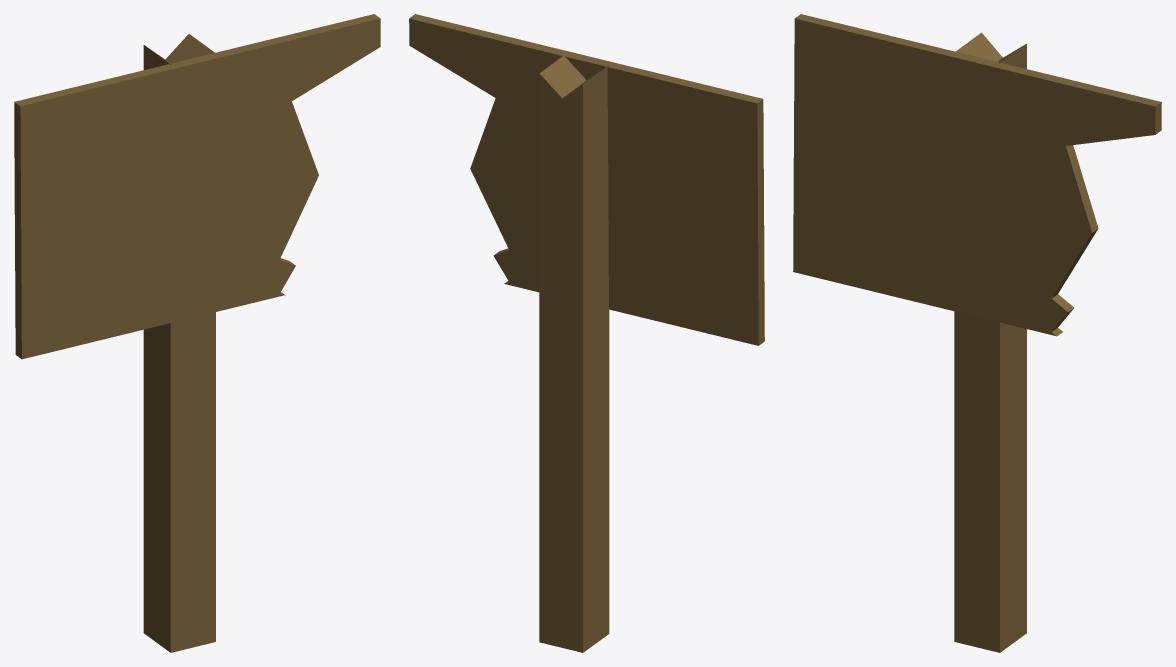
The model's file is WaxWorld_Sign_3.fbx.
3 views of the same model, side by side, from view 1: azimuth 30°, elevation 25°; view 2: azimuth 150°, elevation 25°; view 3: azimuth 330°, elevation 25° (orthographic). The views are drawn at different scales.
Visible parts, largest first — view 1: Box002; view 2: Box002; view 3: Box002.
Part boxes in pixels (<box>): Box002: <box>14,14,380,652</box>; Box002: <box>409,14,764,652</box>; Box002: <box>793,14,1161,652</box>.
Bounding box in the file's own units: 39.34 × 61.4 × 6.26.
1 material, 1 textured.
